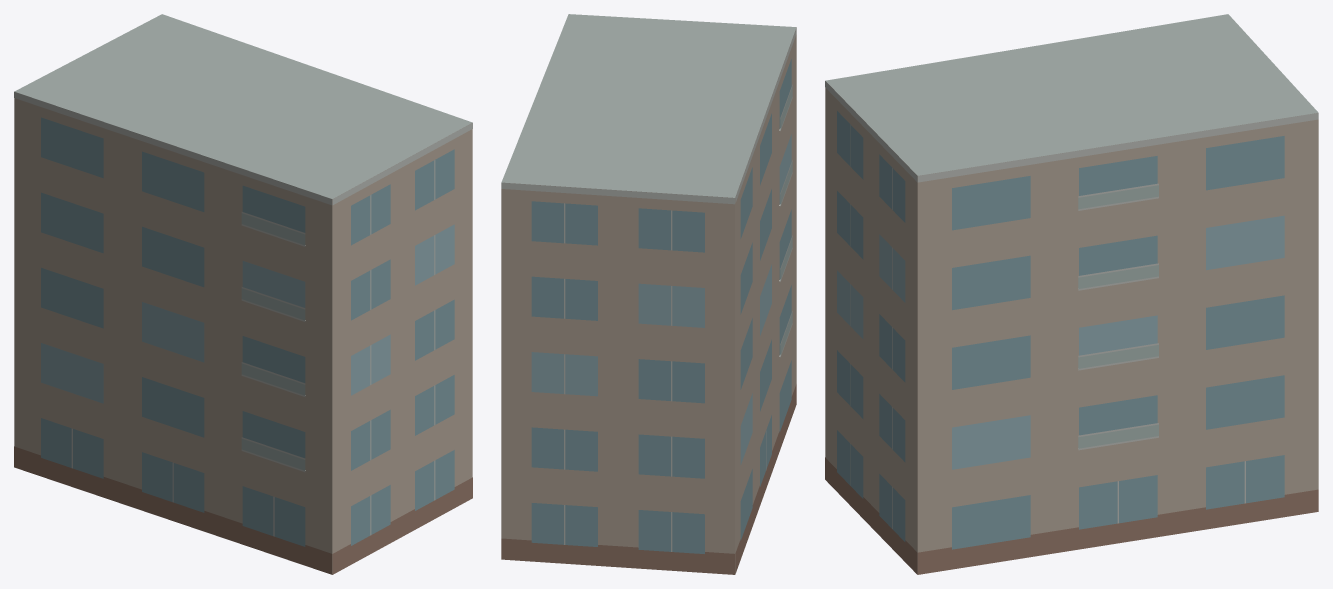
The model's file is survey-upis-32890853.glb.
The picture shows the model from 3 angles, left to right: view 1: azimuth 30°, elevation 25°; view 2: azimuth 150°, elevation 25°; view 3: azimuth 270°, elevation 25°; orthographic projection. The views are drawn at different scales.
Parts seen in each view (by area): view 1: survey-upis-32890853.tmp; view 2: survey-upis-32890853.tmp; view 3: survey-upis-32890853.tmp.
Boxes of the visible parts, box(x1,y1,x2,y2) form: survey-upis-32890853.tmp: box(14, 14, 472, 574); survey-upis-32890853.tmp: box(501, 14, 796, 574); survey-upis-32890853.tmp: box(825, 14, 1318, 574).
Size of the model in its own units: 12.59 by 14.46 by 16.22.
